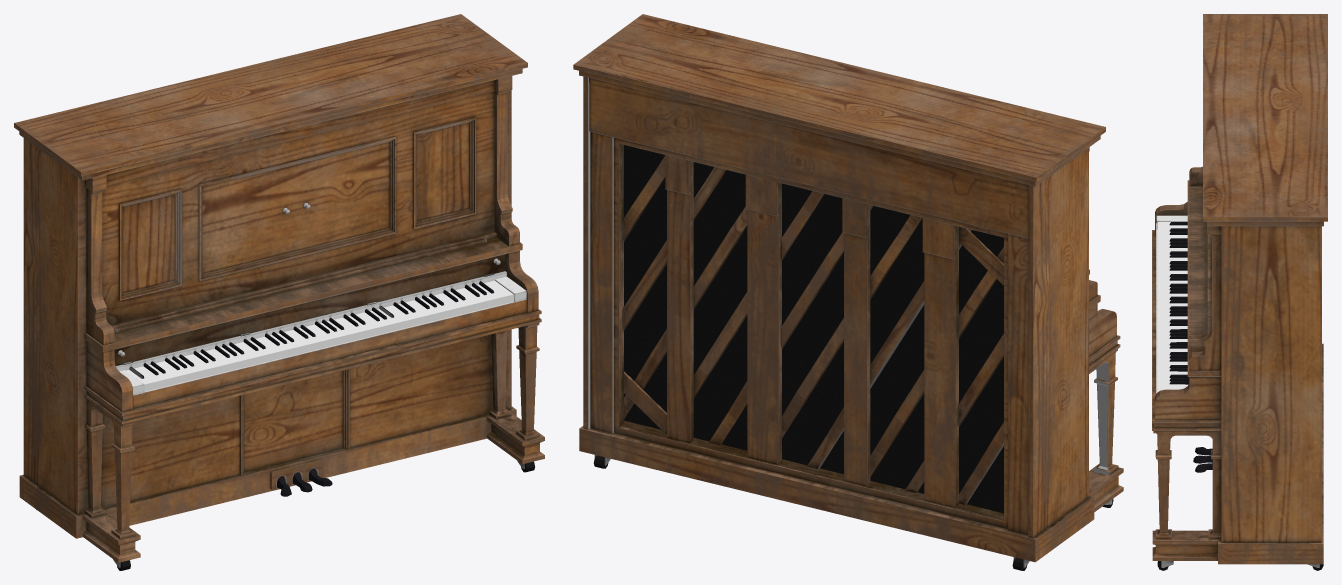
The model's file is old_piano.glb.
3 renders of one model, left to right at view 1: azimuth 30°, elevation 25°; view 2: azimuth 150°, elevation 25°; view 3: azimuth 270°, elevation 25°, orthographic. The views are drawn at different scales.
Parts seen in each view (by area): view 1: Cube, Cube.002, Cube.004; view 2: Cube, Cube.005; view 3: Cube, Cube.002, Cube.004.
Part boxes in pixels (<box>): Cube: <box>14,14,544,567</box>; Cube.002: <box>126,280,513,384</box>; Cube.004: <box>277,468,332,496</box>; Cube: <box>573,14,1123,567</box>; Cube.005: <box>624,145,1003,513</box>; Cube: <box>1152,14,1327,567</box>; Cube.002: <box>1157,222,1189,389</box>; Cube.004: <box>1193,447,1212,472</box>.
Bounding box in the file's own units: 152 × 126 × 55.67.
1 material, 1 textured.
